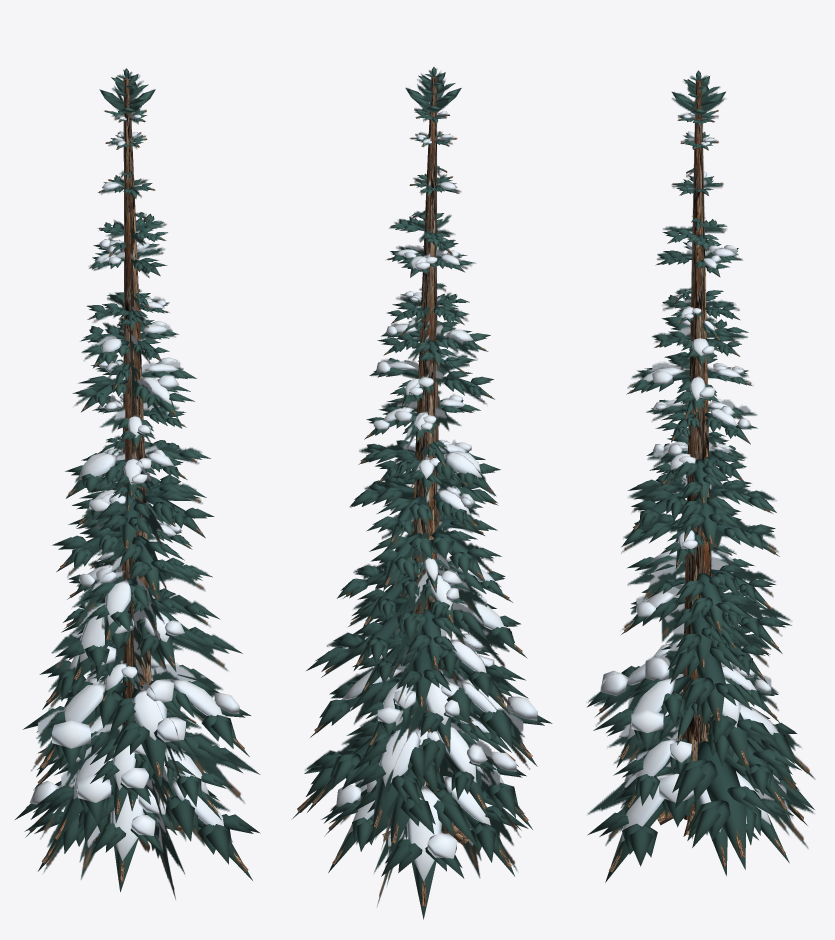
The model's file is tree14.glb.
3 renders of one model, left to right at view 1: azimuth 30°, elevation 25°; view 2: azimuth 150°, elevation 25°; view 3: azimuth 270°, elevation 25°, orthographic. The views are drawn at different scales.
Parts seen in each view (by area): view 1: Alpine14_1, Alpine14_2, Empty.004, Alpine14_0; view 2: Alpine14_1, Empty.004, Alpine14_2, Alpine14_0; view 3: Alpine14_1, Empty.004, Alpine14_2, Alpine14_0.
Boxes of the visible parts, bbox=[...] form: Alpine14_1: bbox=[15, 68, 260, 891]; Alpine14_2: bbox=[30, 114, 239, 860]; Empty.004: bbox=[31, 69, 255, 899]; Alpine14_0: bbox=[29, 77, 248, 881]; Alpine14_1: bbox=[291, 67, 552, 919]; Empty.004: bbox=[305, 68, 529, 906]; Alpine14_2: bbox=[336, 111, 537, 881]; Alpine14_0: bbox=[297, 76, 532, 906]; Alpine14_1: bbox=[587, 70, 815, 882]; Empty.004: bbox=[587, 75, 814, 848]; Alpine14_2: bbox=[600, 112, 779, 842]; Alpine14_0: bbox=[599, 81, 809, 872].
Bounding box in the file's own units: 6.31 × 20.8 × 5.65.
Materials: 4 (2 with a texture image).
